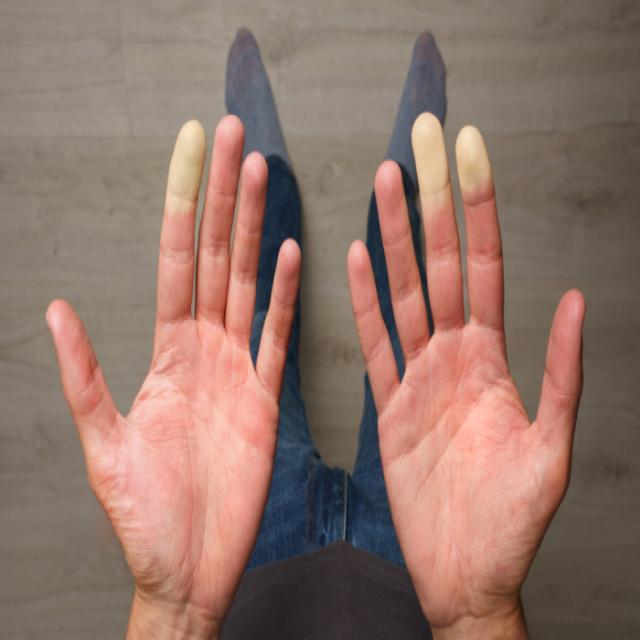raynauds: (405, 109, 501, 200), (160, 104, 203, 220)
